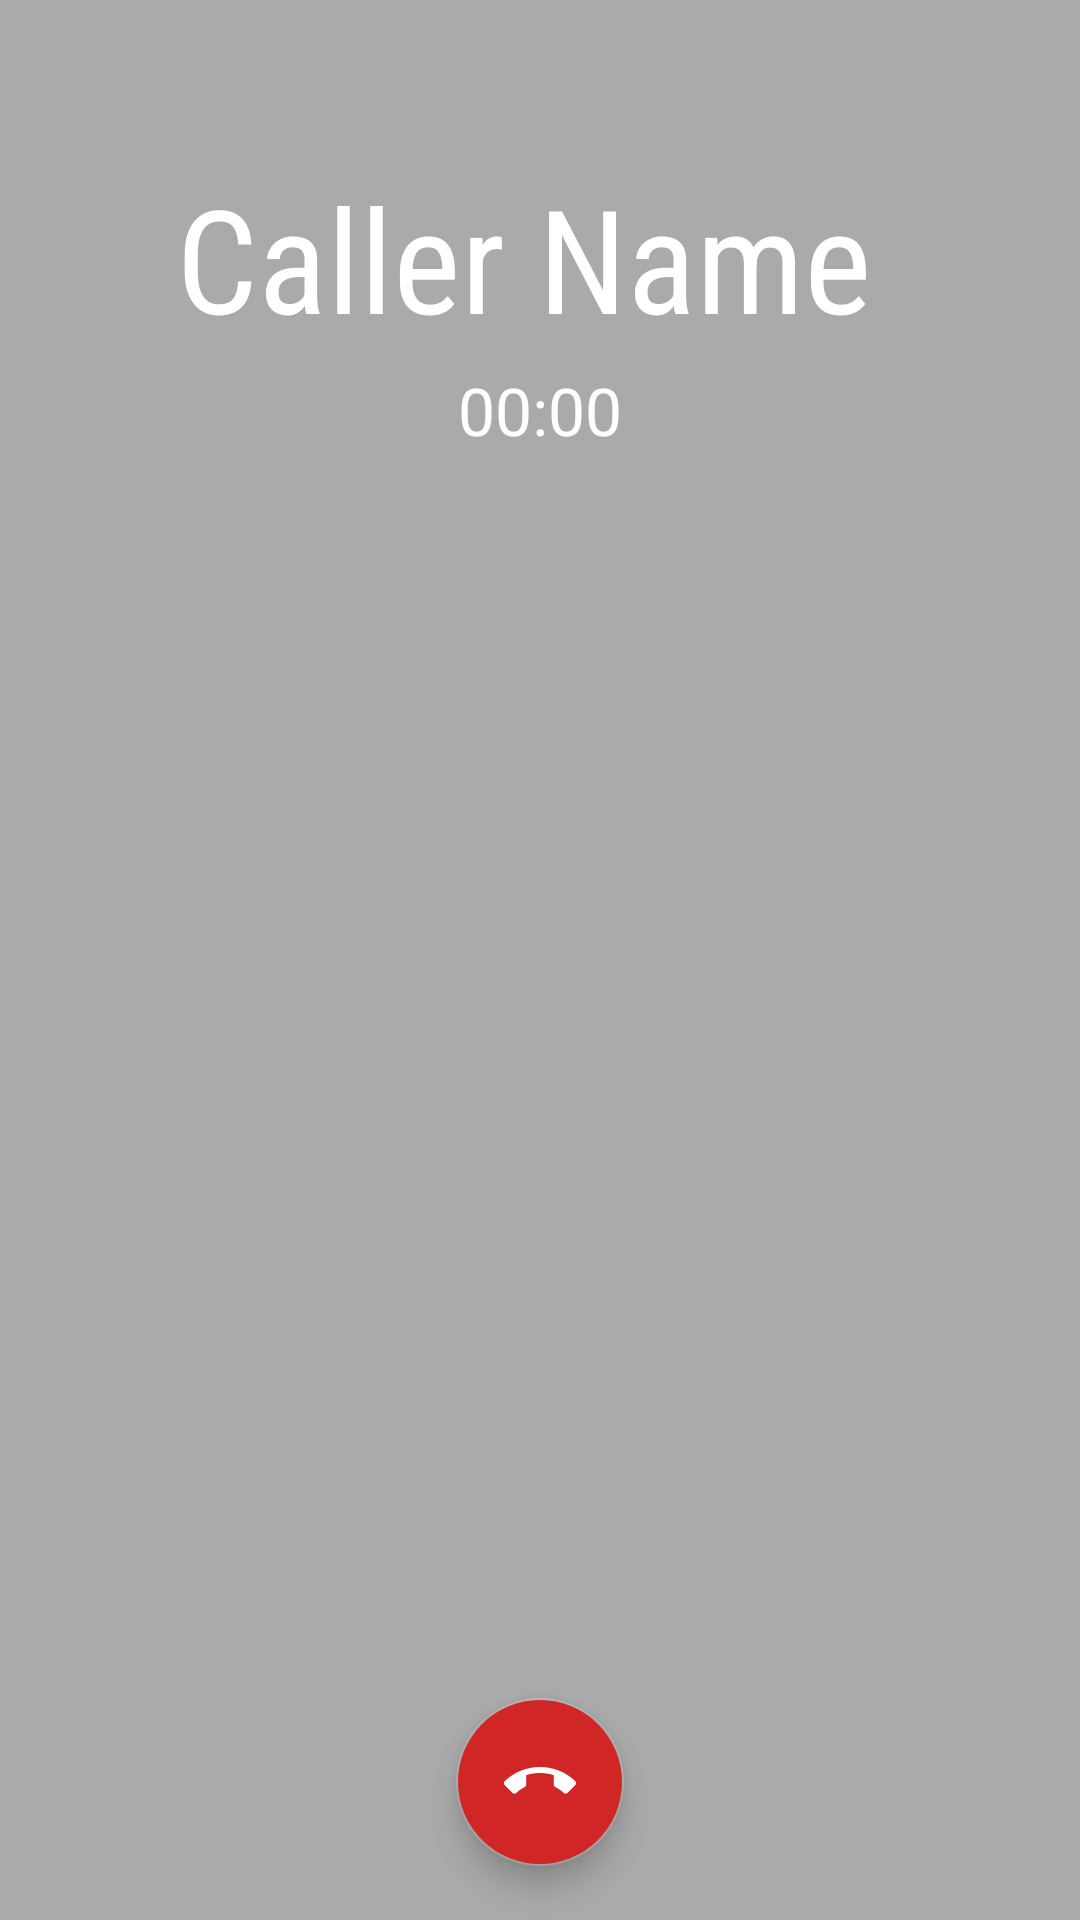

Named icons in this screenshot (1080*1920) and their bounding boxes, box(x1, y1, x2, y2):
call end: box(458, 1700, 622, 1864)
